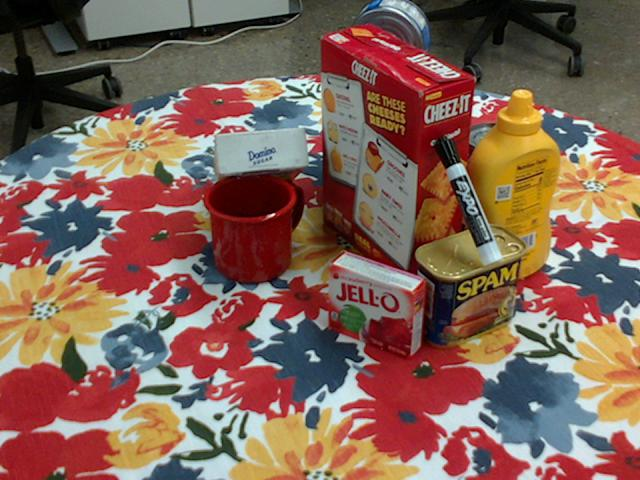cracker_box: (319, 26, 473, 290)
gelatin_box: (327, 249, 427, 357)
large_marker: (433, 135, 503, 264)
master_chef_can: (326, 57, 419, 207)
mug: (204, 172, 306, 282)
mustard_bottle: (459, 90, 560, 284)
potted_meat_can: (415, 223, 528, 348)
sugar_box: (213, 129, 309, 186)
tomato_soup_can: (456, 123, 527, 234)
tuna_fish_can: (347, 0, 429, 82)
